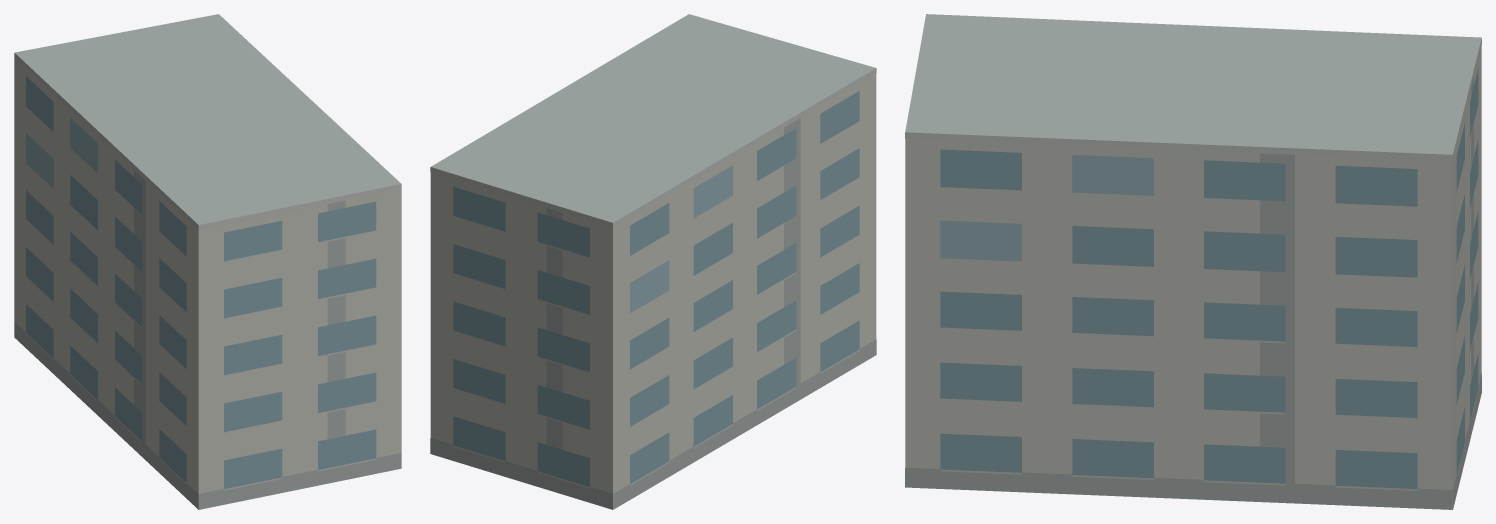
File: survey-upis-32821106.glb
3 views of the same model, side by side, from view 1: azimuth 30°, elevation 25°; view 2: azimuth 150°, elevation 25°; view 3: azimuth 270°, elevation 25° (orthographic). The views are drawn at different scales.
Visible parts, largest first — view 1: survey-upis-32821106.tmp; view 2: survey-upis-32821106.tmp; view 3: survey-upis-32821106.tmp.
Part boxes in pixels (x1,y1,x2,y2): survey-upis-32821106.tmp: (14,14,401,509); survey-upis-32821106.tmp: (430,14,876,509); survey-upis-32821106.tmp: (905,14,1481,509).
Bounding box in the file's own units: 11.31 × 13.3 × 19.58.
